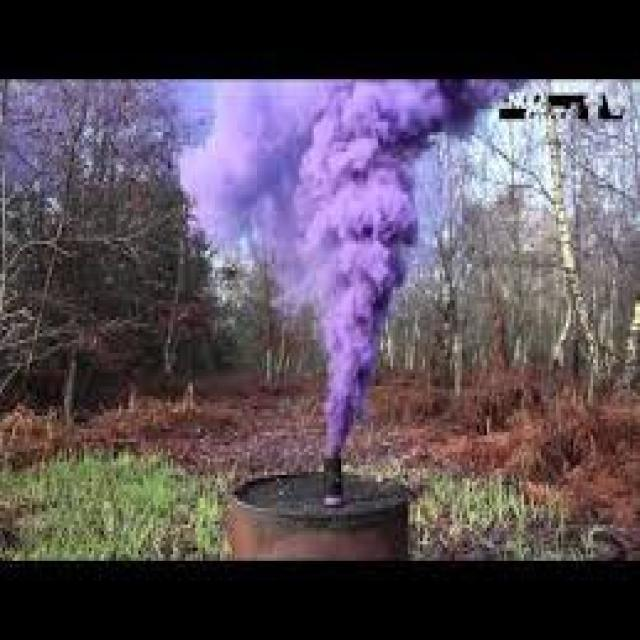Smoke: (176, 79, 531, 456)
